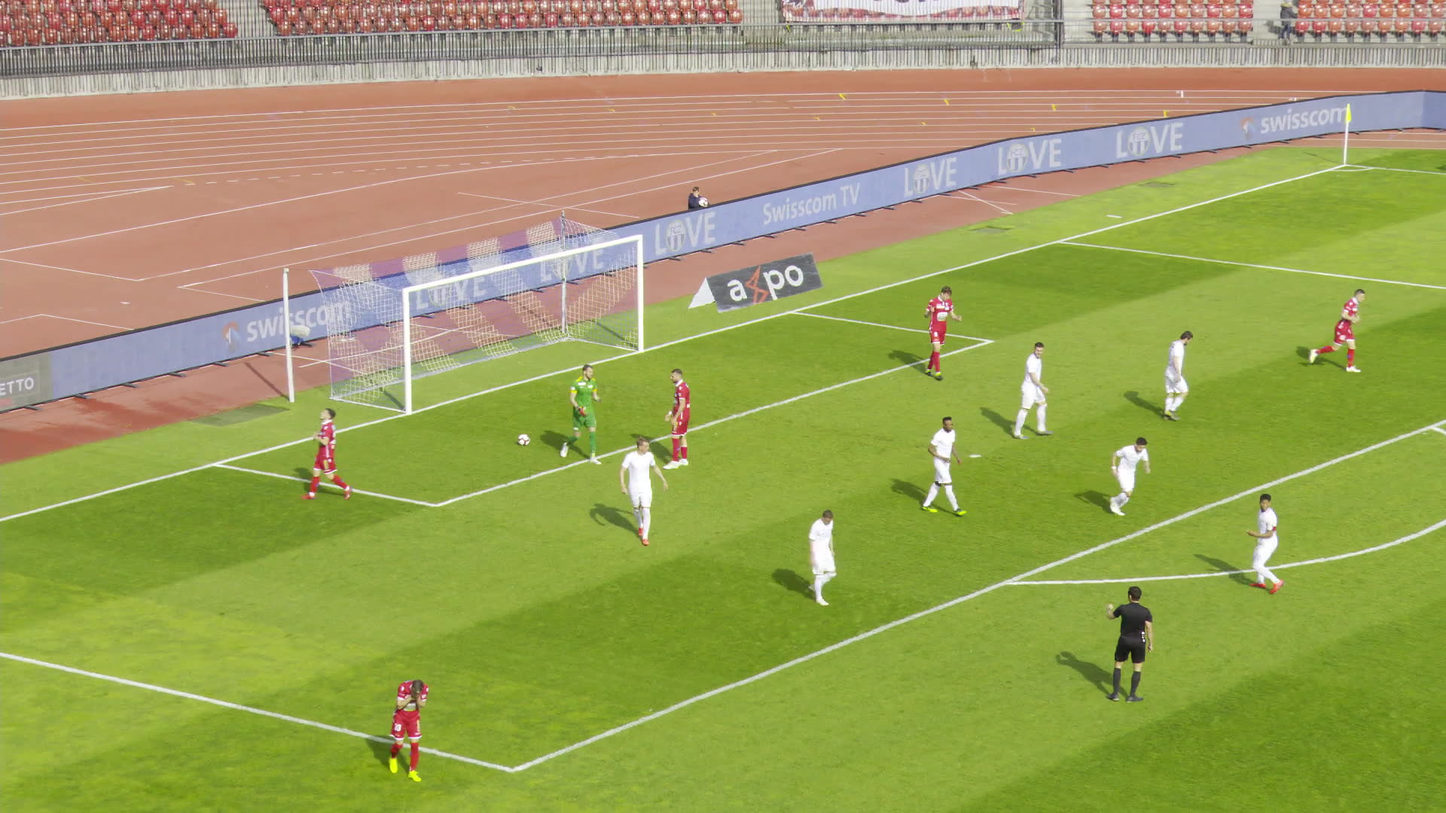ball: (517, 434, 529, 446)
player: (617, 434, 669, 548), (386, 677, 432, 779), (1309, 287, 1364, 371), (557, 363, 602, 464), (307, 406, 350, 500), (798, 510, 840, 606), (1152, 331, 1195, 422), (1010, 340, 1049, 440), (1245, 488, 1280, 596), (1102, 436, 1146, 519), (920, 283, 958, 379), (924, 414, 957, 516), (657, 367, 689, 469)
referee: (1100, 584, 1154, 702)
